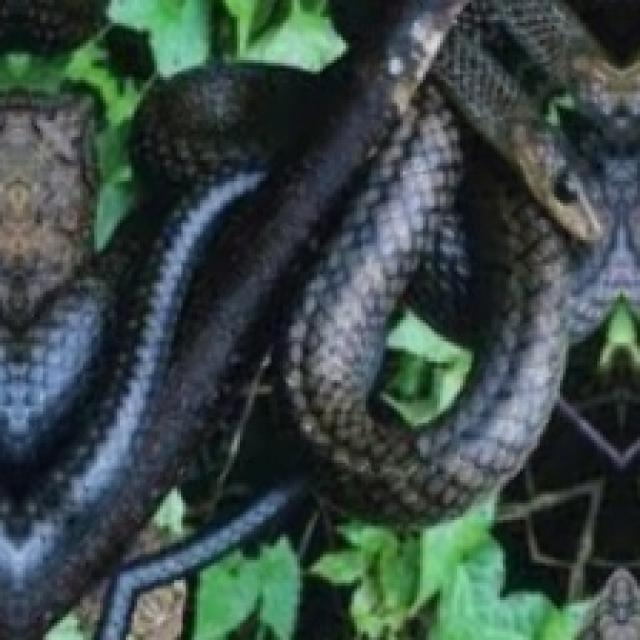smooth-scaled mountain rat snake: (0, 0, 637, 637), (0, 0, 103, 51), (97, 26, 151, 83)
